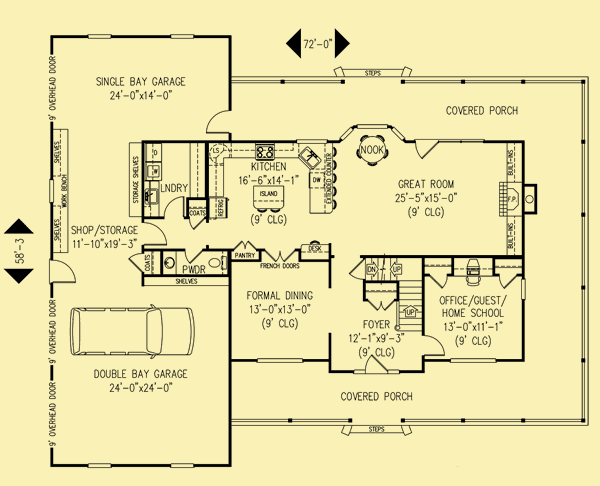kitchen has a kitchen counter with cooking range and a twin sink: (208, 138, 343, 261)
laundry has washer and dryer: (140, 137, 208, 222)
the livingroom has a round table: (341, 122, 522, 260)
this is a garage with one car parking: (45, 278, 234, 468)
